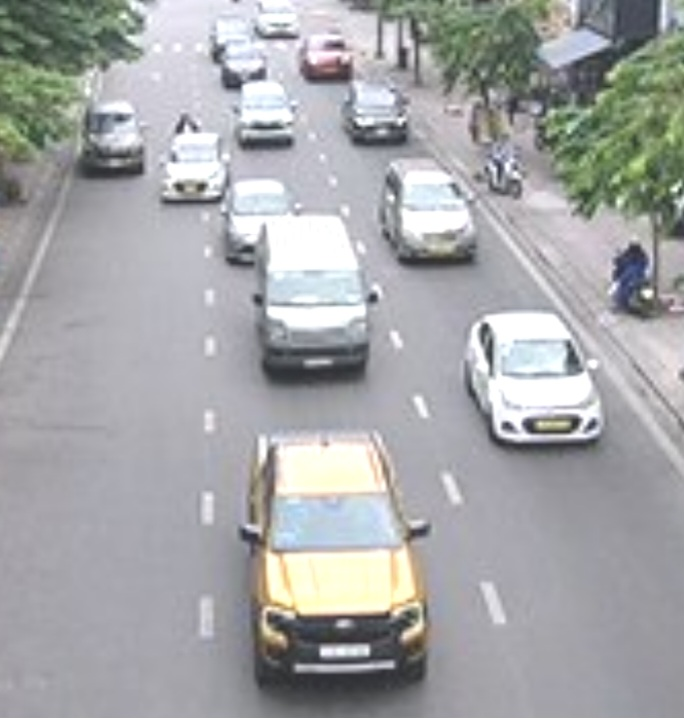car: (250, 429, 428, 685), (466, 311, 605, 446), (259, 221, 369, 378), (380, 159, 479, 265), (231, 177, 293, 263), (160, 132, 228, 205), (79, 98, 143, 175), (345, 79, 410, 144), (238, 82, 295, 145), (301, 32, 353, 81)
